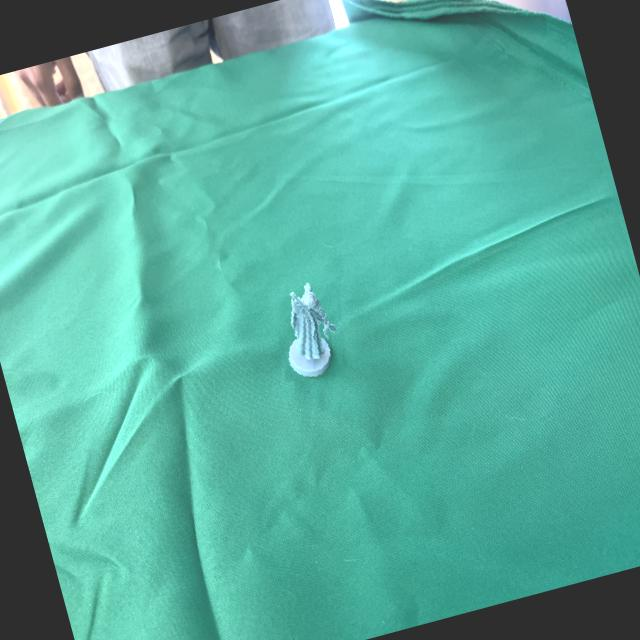isis_follower: (261, 266, 356, 388)
